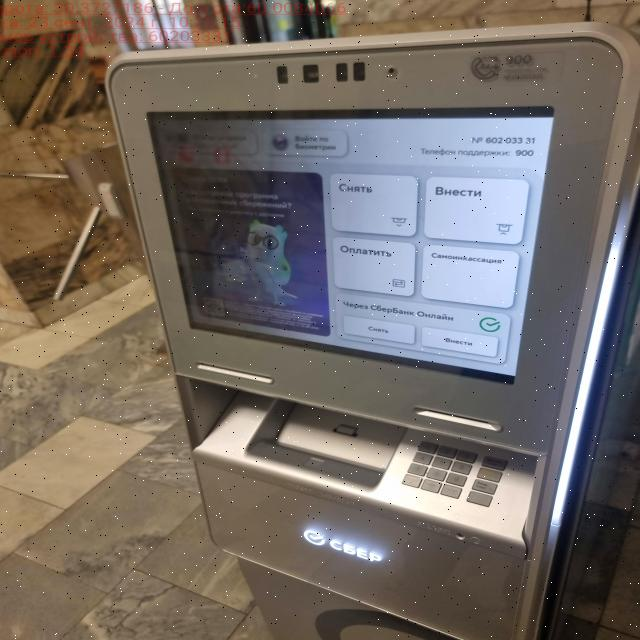bank: (102, 8, 640, 639)
